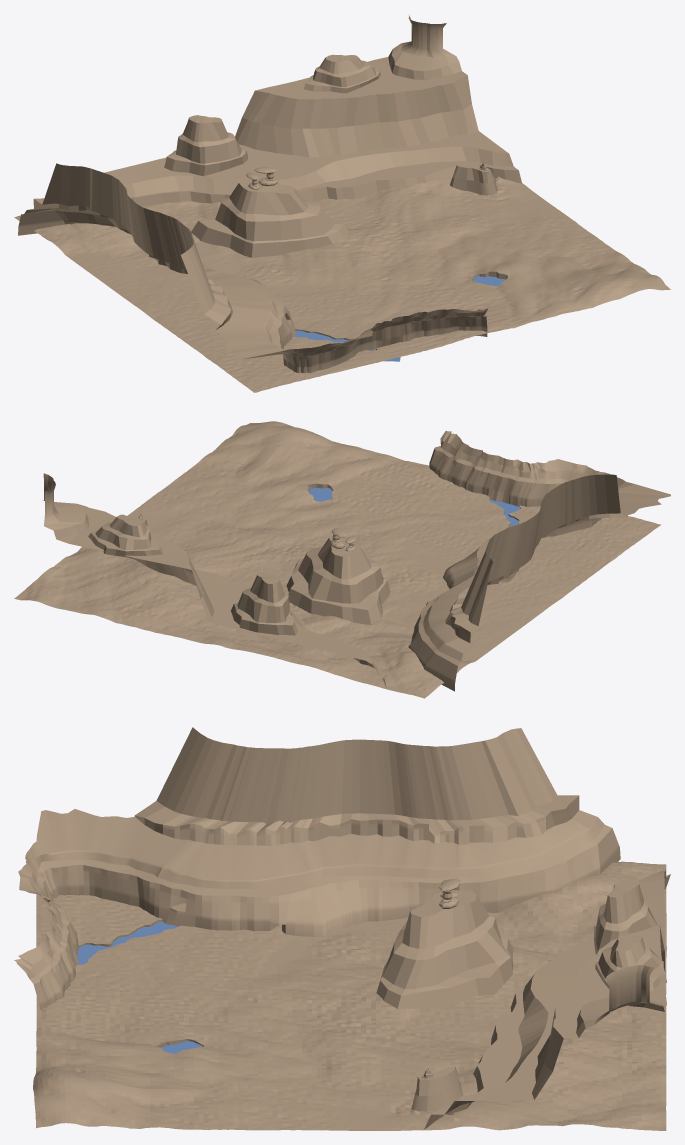
The model's file is topo_02.fbx.
3 renders of one model, top to bottom at view 1: azimuth 30°, elevation 25°; view 2: azimuth 150°, elevation 25°; view 3: azimuth 270°, elevation 25°, orthographic. The views are drawn at different scales.
Parts seen in each view (by area): view 1: ground:ZBrush_defualt_group, polySurface6, pPlane2, polySurface3, polySurface8; view 2: ground:ZBrush_defualt_group, pPlane2, polySurface6, polySurface3; view 3: ground:ZBrush_defualt_group, pPlane2, polySurface6, polySurface3, polySurface8, ground:pPlane1.
Part boxes in pixels (x1,y1,x2,y2): ground:ZBrush_defualt_group: (14,176,670,392); polySurface6: (104,15,521,206); pPlane2: (18,163,487,373); polySurface3: (191,167,349,257); polySurface8: (450,162,497,195); ground:ZBrush_defualt_group: (14,421,661,698); pPlane2: (408,431,670,691); polySurface6: (43,473,386,688); polySurface3: (286,528,390,624); ground:ZBrush_defualt_group: (33,861,666,1130); pPlane2: (14,727,620,1010); polySurface6: (424,870,670,1129); polySurface3: (376,879,513,1009); polySurface8: (411,1066,462,1111); ground:pPlane1: (77,921,178,964).
Bounding box in the file's own units: 3481 × 981 × 3503.
